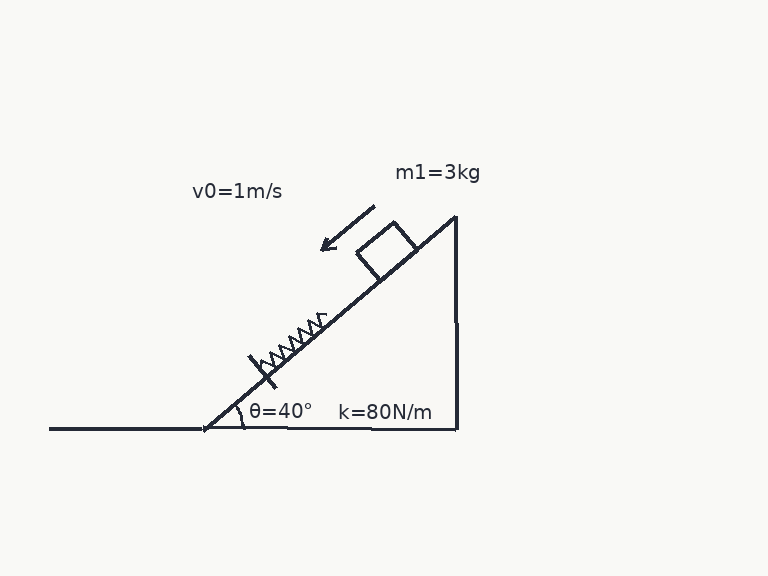block: (354, 220, 419, 283)
ramp: (201, 215, 458, 431)
spring: (258, 310, 328, 371)
